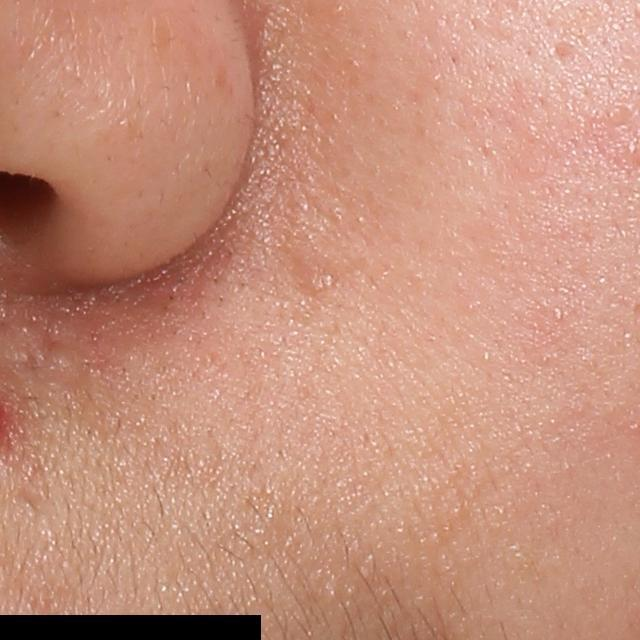atrophic_scar: (274, 251, 363, 305), (551, 41, 590, 74)
